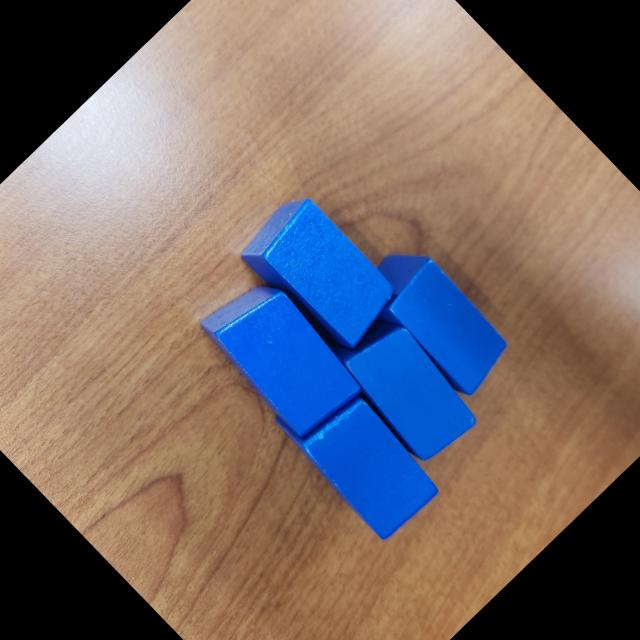blue: (268, 362, 448, 544), (192, 264, 370, 444), (232, 185, 409, 364), (350, 232, 521, 406), (318, 299, 488, 471)
